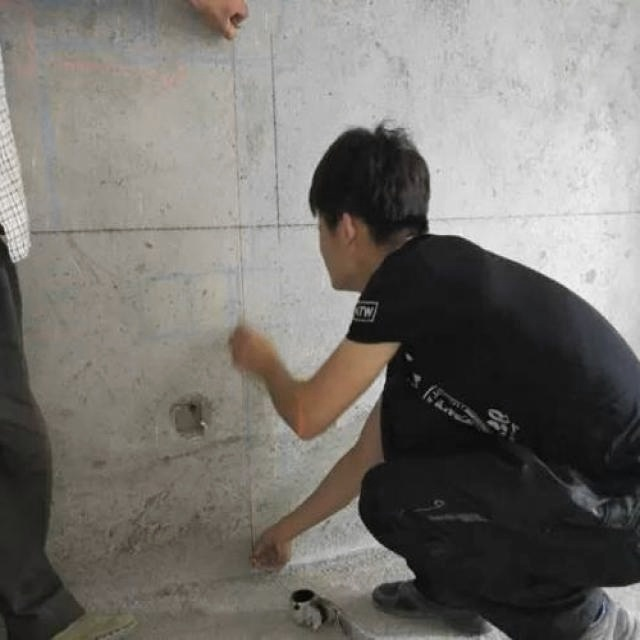Sin_Casco_Mascarrilla: (307, 122, 430, 290)
